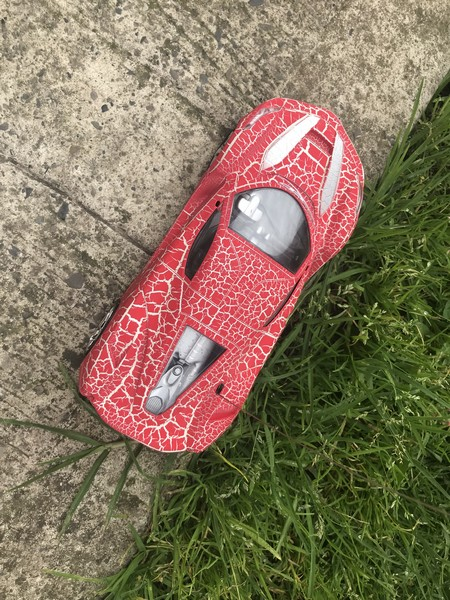RC: (74, 94, 369, 457)
